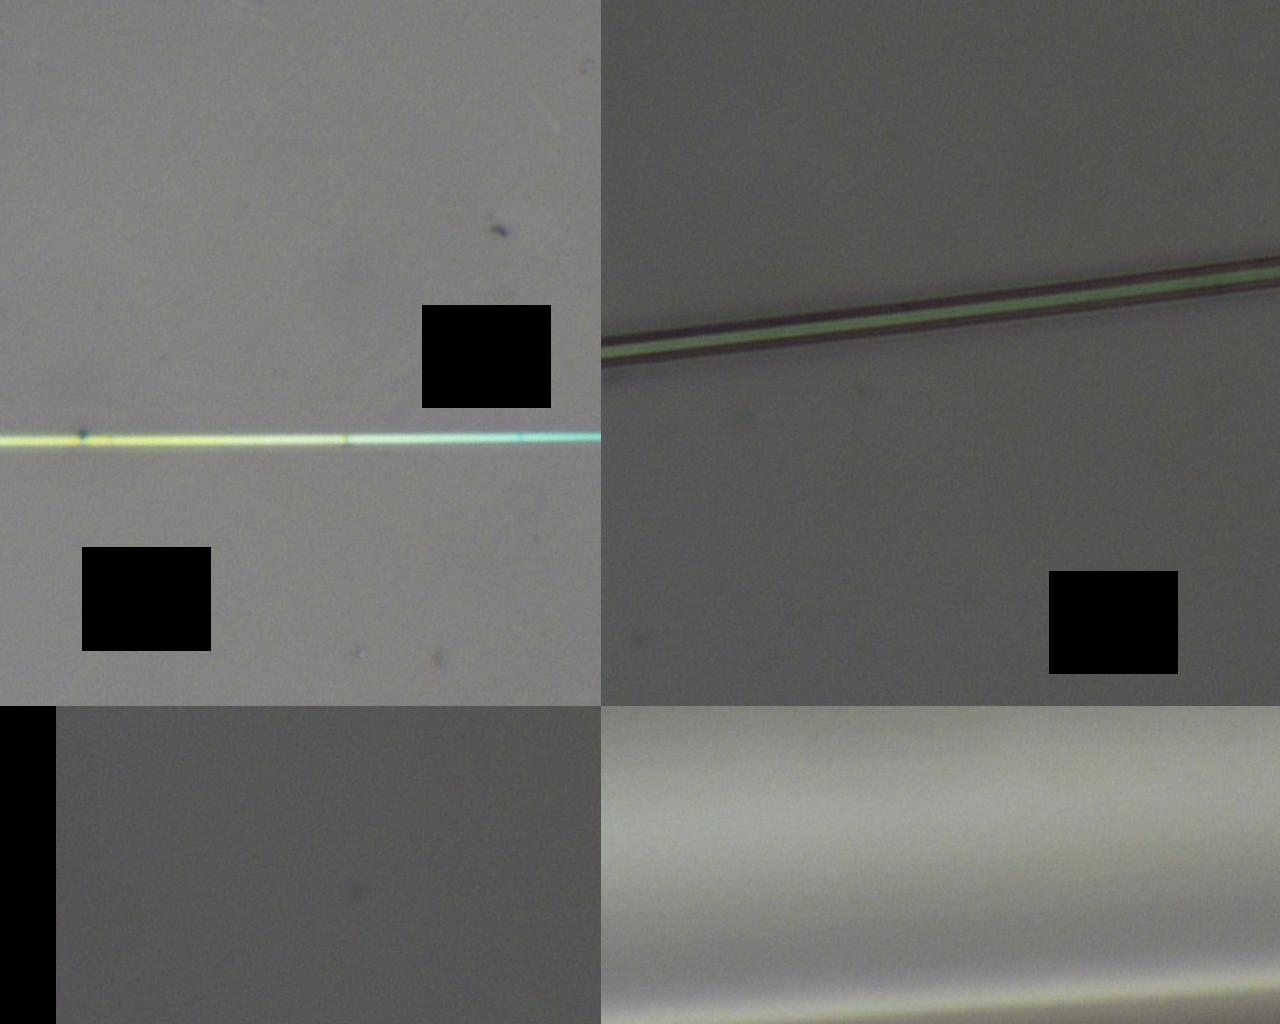fiber: (327, 378, 461, 1024), (767, 378, 854, 1024), (744, 0, 824, 378)
